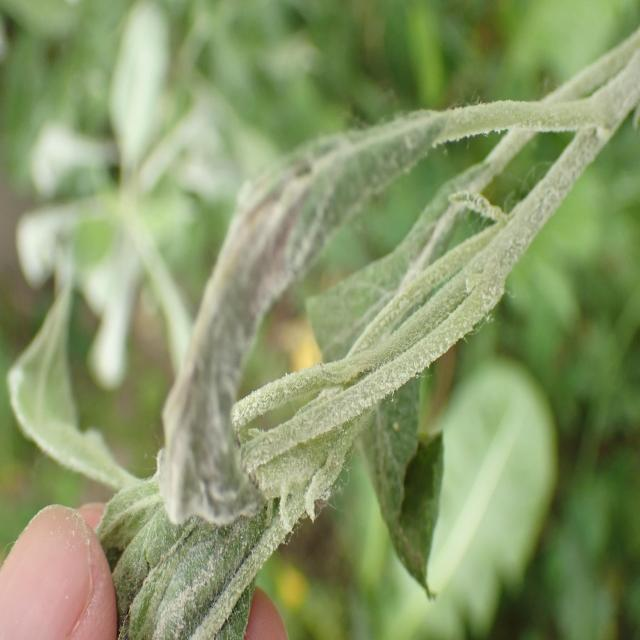Powdery_mildew: (153, 98, 590, 570), (94, 363, 432, 640)
